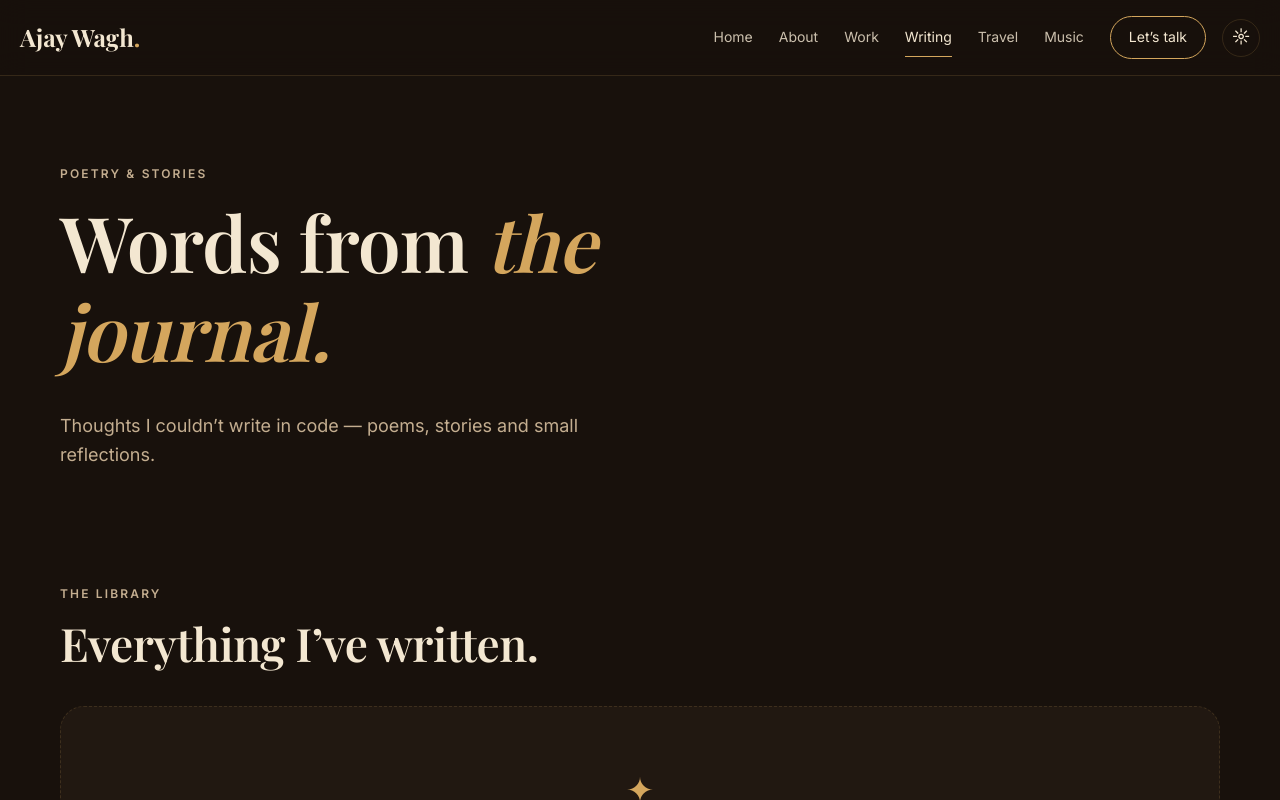
Scenario: empty writing shows an honest placeholder and music lists the tracks without autoplay
Step 1. Click the link "Music" → x=1064, y=37, box [1044,28,1084,45]
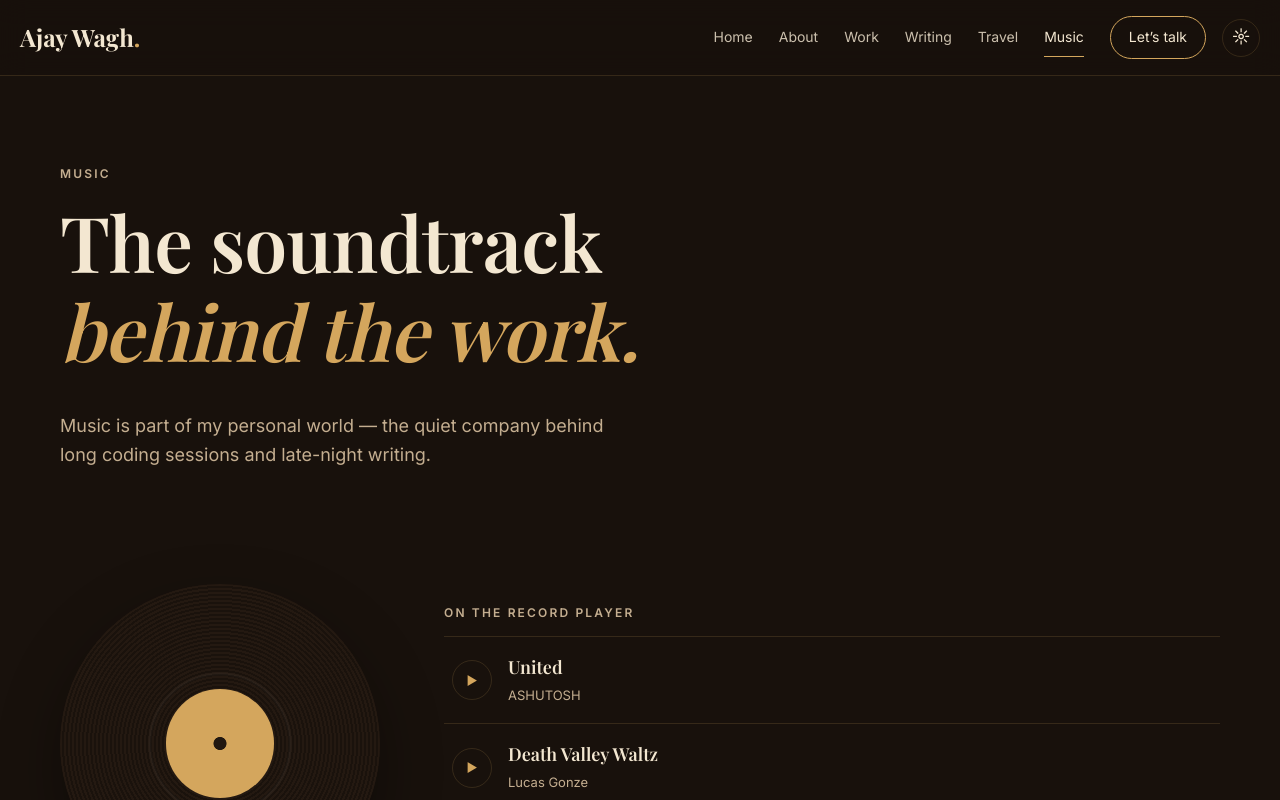
Check: the button with aria-label "Play United" is shown, box [444,637,1220,724]
